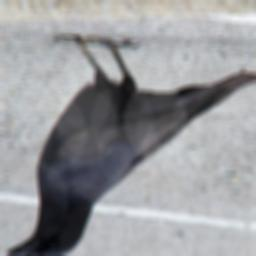Crow: (5, 35, 256, 256)
